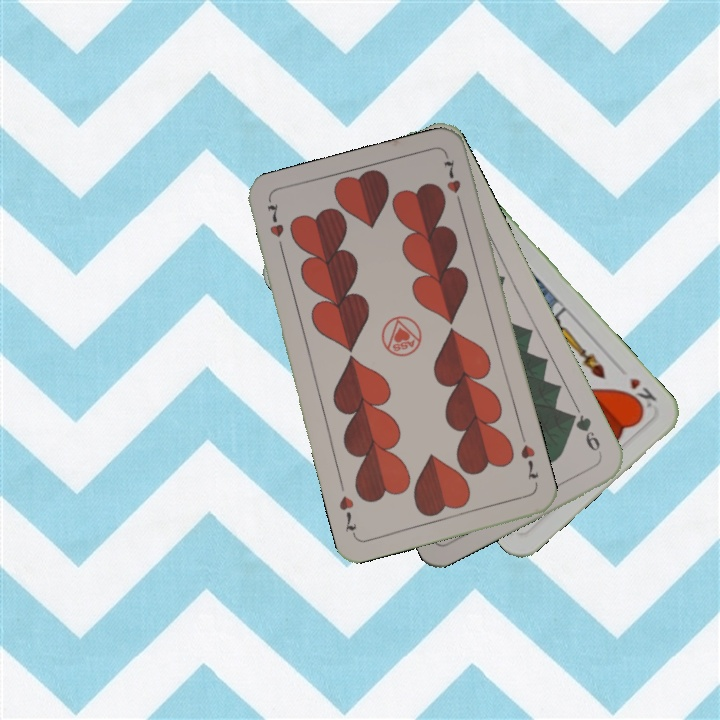G9: (564, 408, 605, 459)
H7: (263, 198, 287, 256), (517, 440, 541, 482)
HK: (620, 373, 660, 415)
